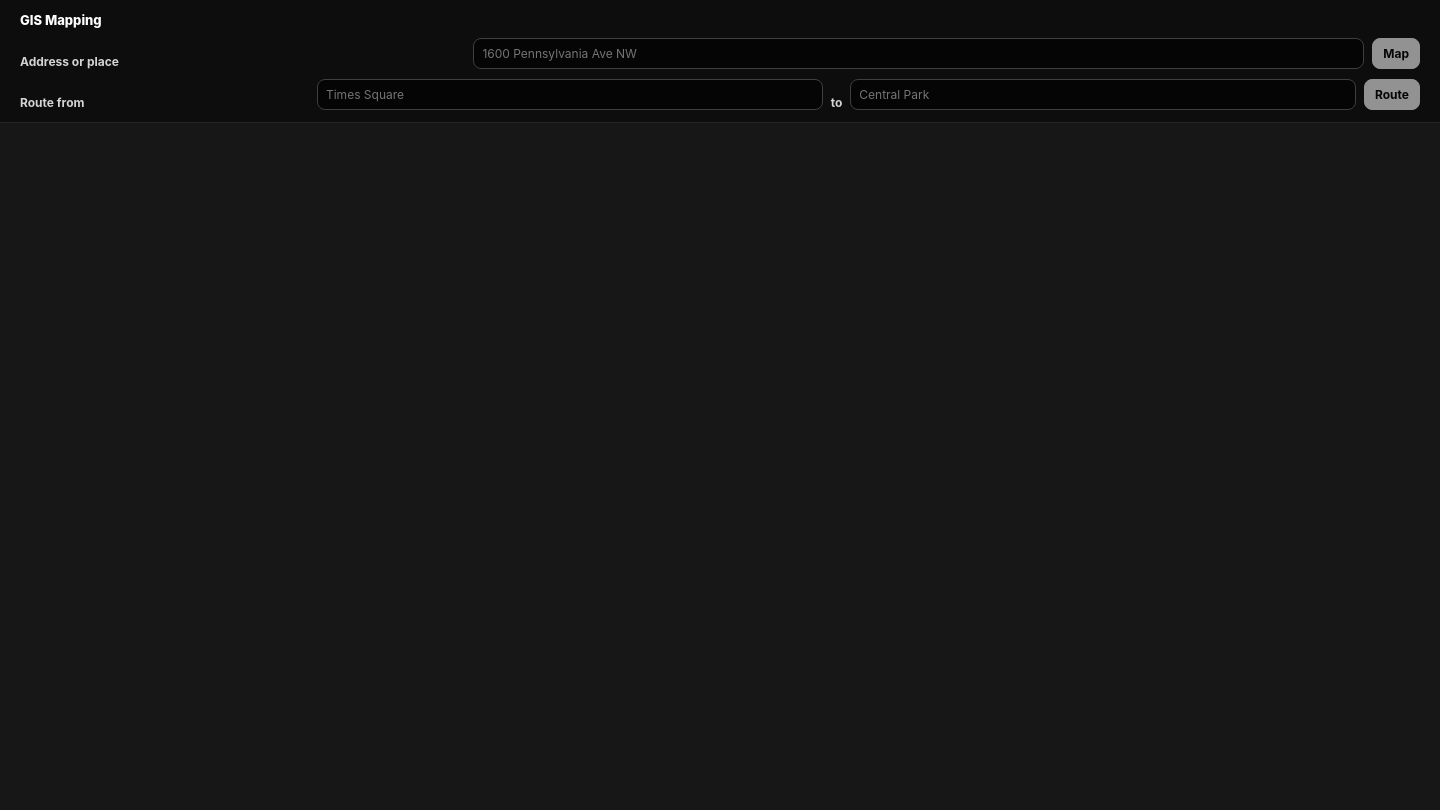
Test: GISMapPanel › trims geocode input and displays provider warnings
Type "  White House  " into the field labelled "Address or place" at [919, 54], box [473, 38, 1364, 69]
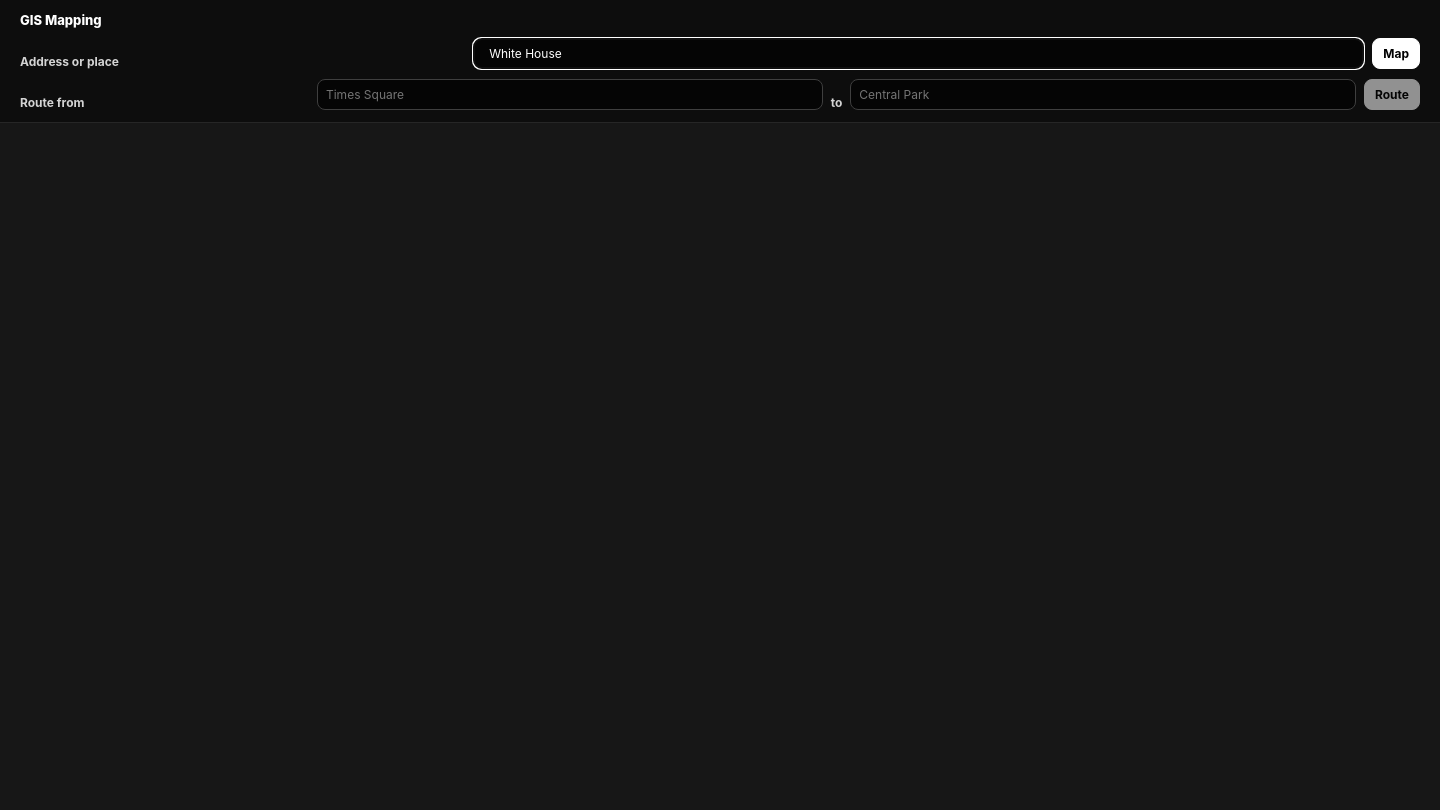
Click the button "Map" at [1396, 54], box [1372, 38, 1420, 69]
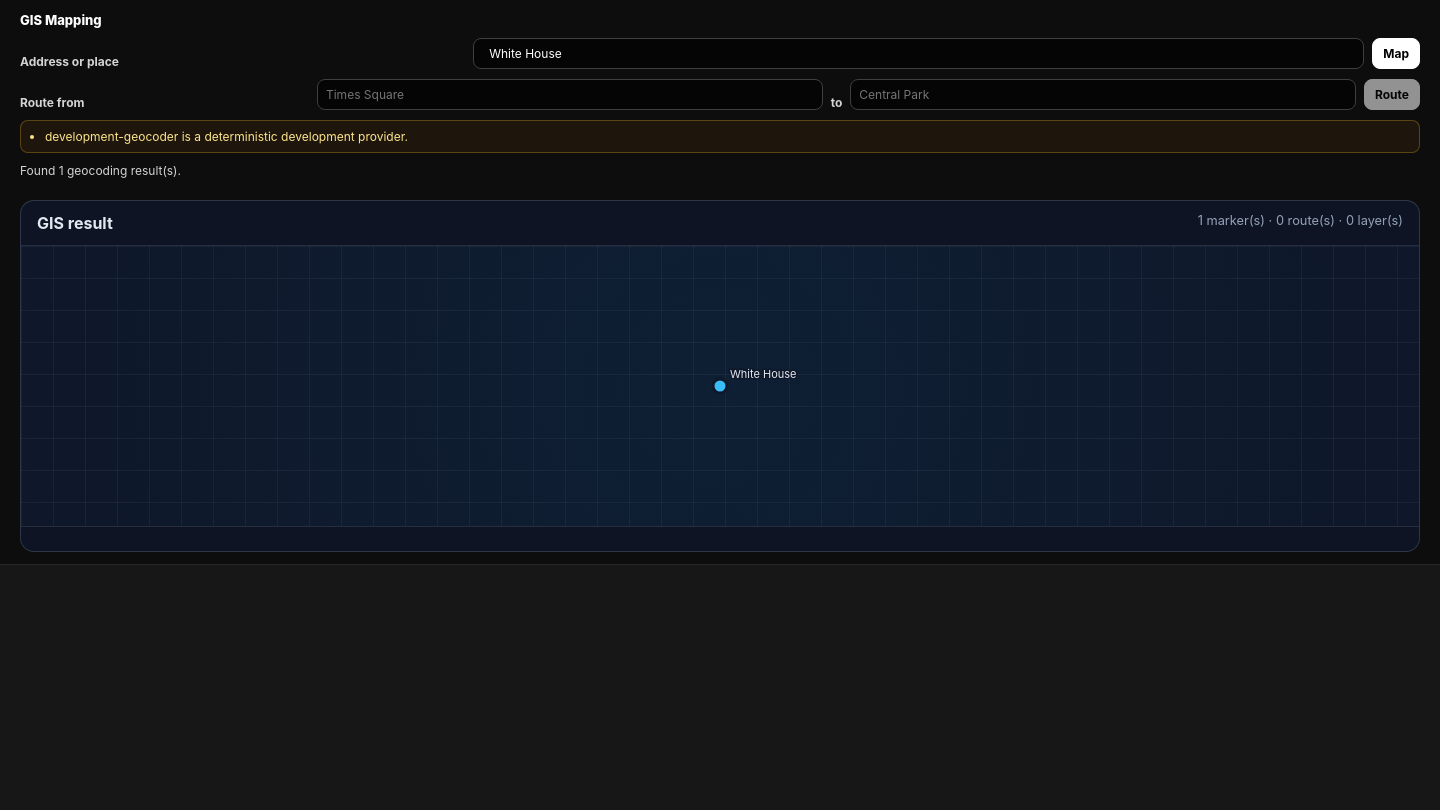
expect the text "Found 1 geocoding result(s)." is shown: met, box [20, 163, 181, 178]
expect the list named "gis warnings" is shown: met, box [20, 120, 1420, 153]
